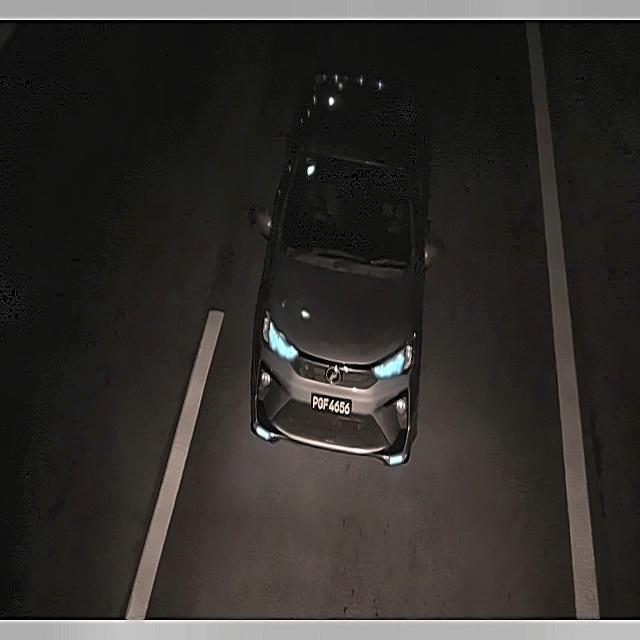car: (308, 386, 356, 420)
